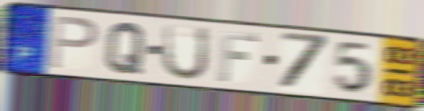5: (332, 40, 377, 94)
7: (279, 30, 332, 94)
F: (216, 29, 261, 84)
P: (48, 13, 100, 71)
Q: (103, 21, 148, 77)
U: (159, 22, 212, 82)
